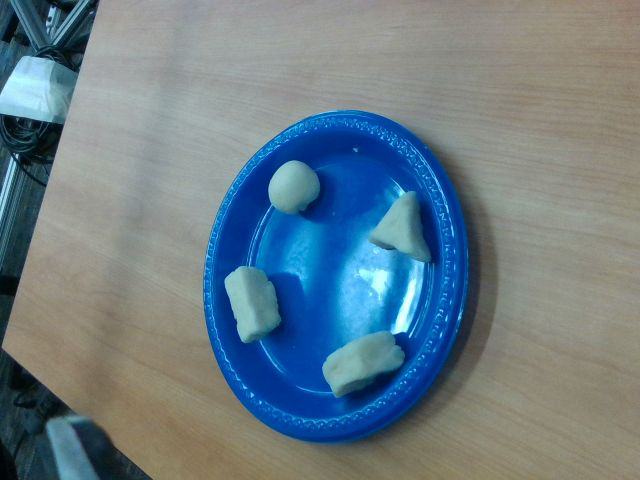mashed_potato: (322, 331, 403, 397), (225, 266, 281, 342), (370, 192, 431, 261), (268, 160, 320, 213)
